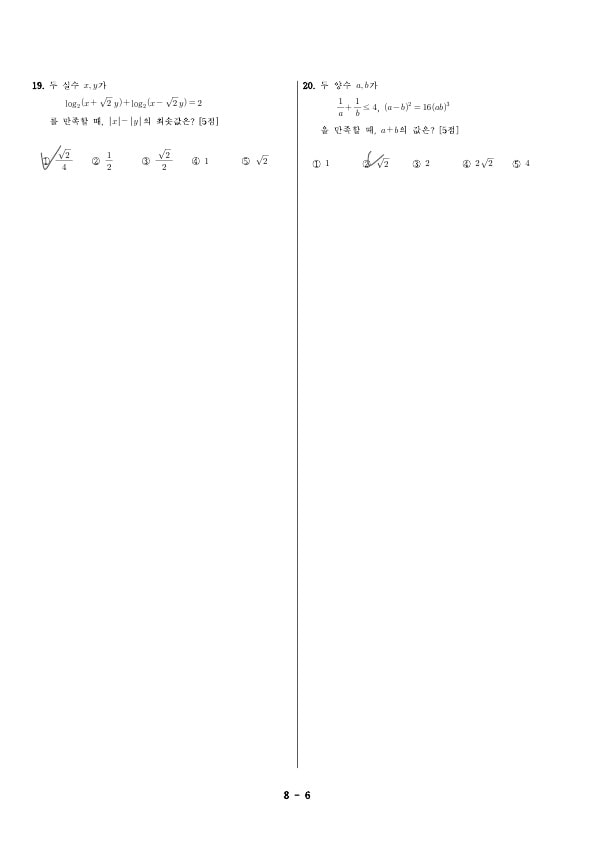question: (21, 71, 287, 182), (295, 71, 543, 183)
